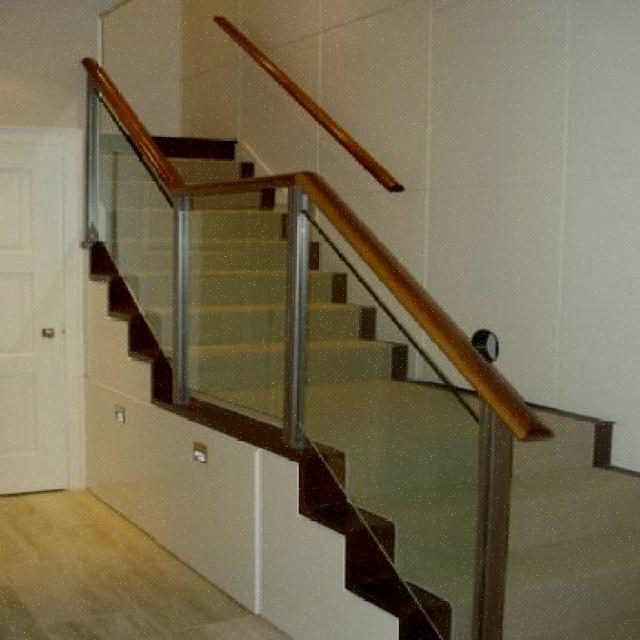stair: (64, 96, 598, 639)
